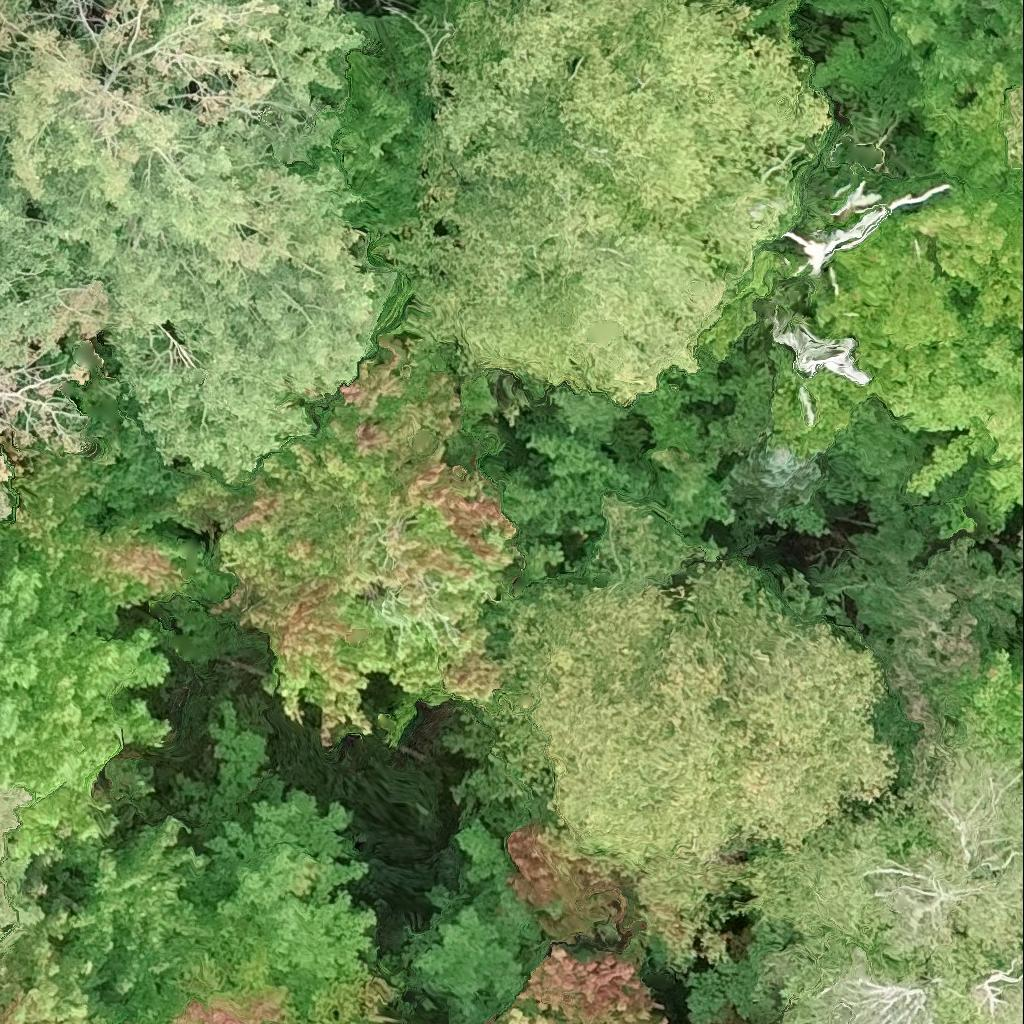crown: (370, 0, 830, 402), (178, 335, 519, 749), (0, 698, 372, 1023), (494, 495, 747, 959), (772, 217, 1023, 537), (724, 721, 1023, 970), (679, 565, 896, 852), (0, 566, 169, 866), (807, 508, 1023, 719), (0, 122, 109, 519), (430, 0, 684, 156), (688, 918, 1023, 1023), (4, 449, 185, 639), (911, 63, 1023, 346), (811, 0, 1023, 118), (172, 936, 395, 1023), (785, 181, 951, 278), (487, 941, 667, 1023), (507, 829, 620, 939), (922, 647, 1023, 750), (772, 316, 869, 423), (725, 440, 822, 513), (0, 786, 30, 860), (1002, 75, 1023, 172), (0, 882, 19, 939), (1015, 528, 1023, 548)
